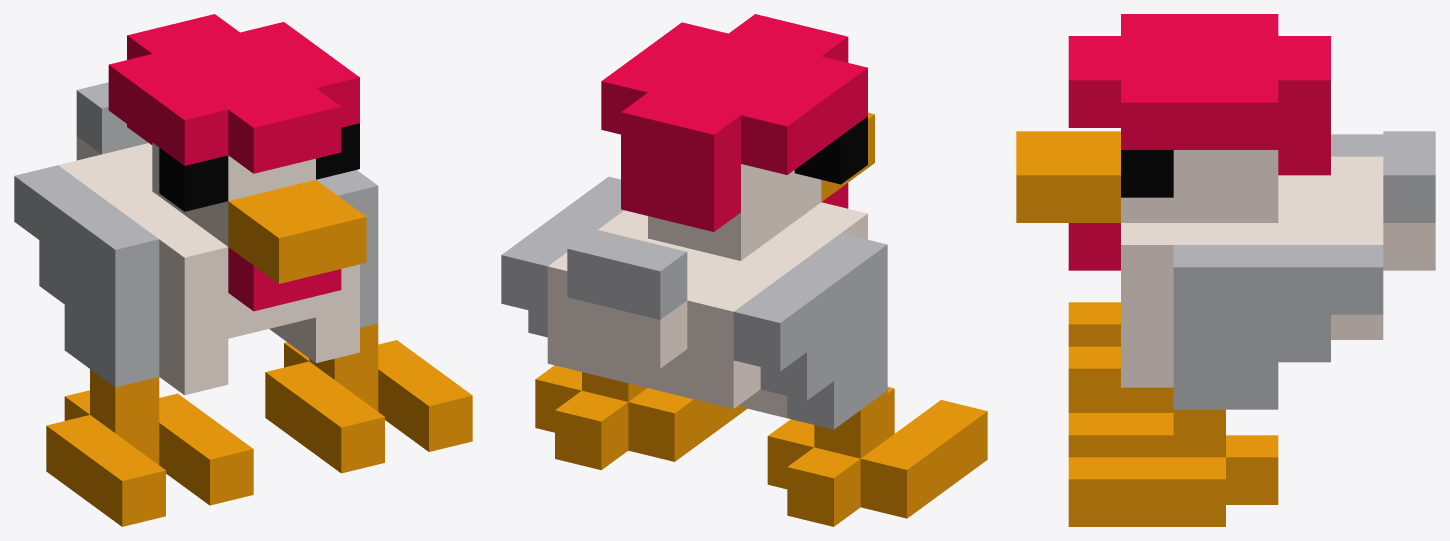
The model's file is Chicken.obj.
The picture shows the model from 3 angles, left to right: view 1: azimuth 30°, elevation 25°; view 2: azimuth 150°, elevation 25°; view 3: azimuth 270°, elevation 25°; orthographic projection. The views are drawn at different scales.
Bounding box in the file's own units: 0.8 × 0.8 × 0.8.
Materials: 1 (1 with a texture image).
